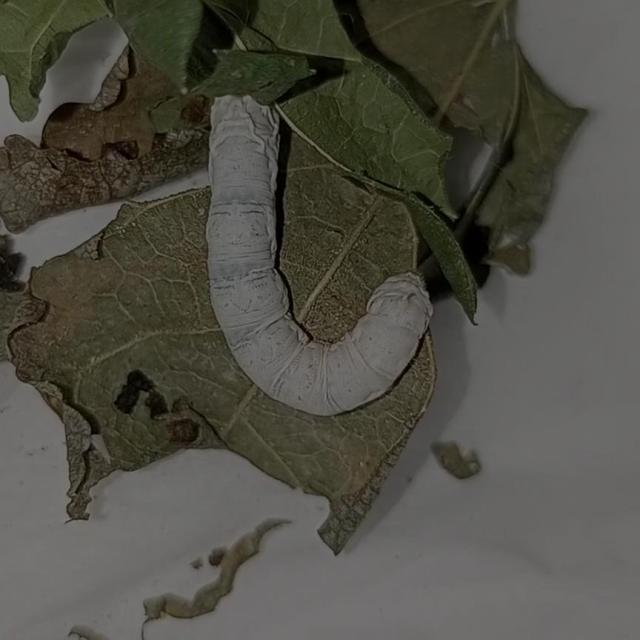Healthy: (187, 56, 445, 428)
